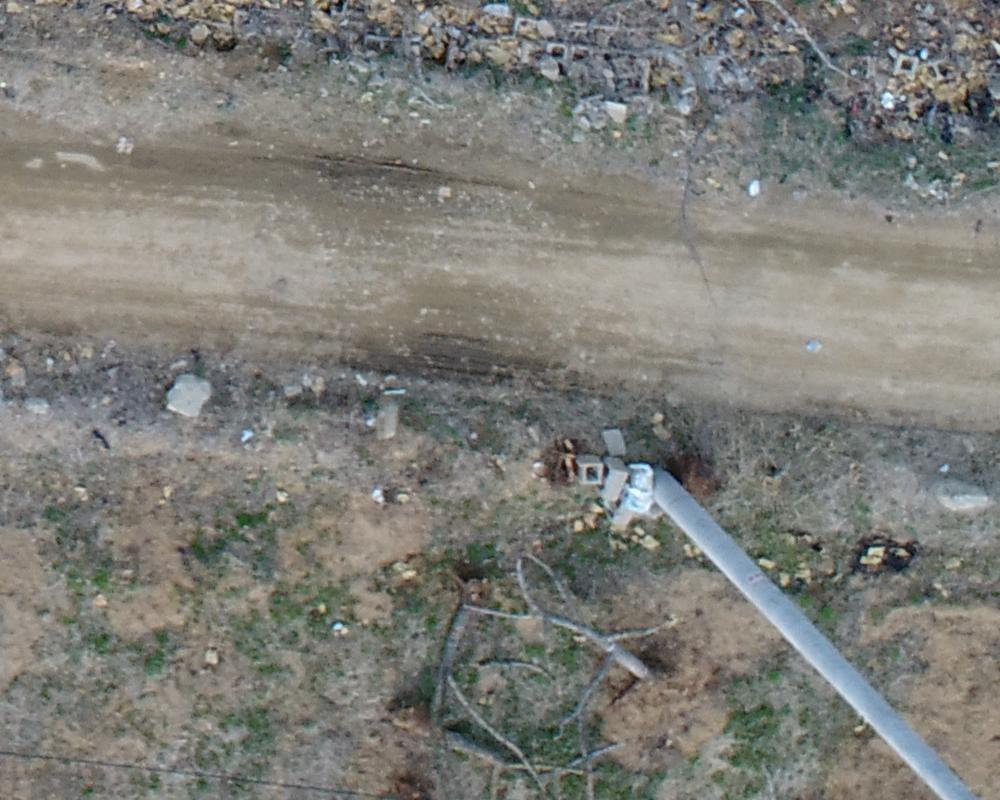apple: (466, 10, 851, 95)
